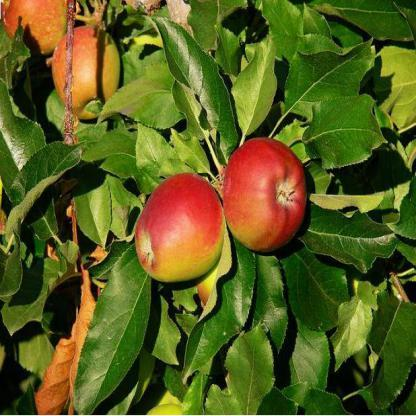Apple leaf: (70, 241, 162, 415), (147, 14, 249, 162), (1, 134, 92, 240), (284, 27, 384, 116), (300, 89, 386, 184), (302, 204, 390, 284), (278, 253, 359, 339), (218, 324, 283, 416), (58, 158, 121, 252), (370, 286, 416, 406), (235, 32, 278, 138), (76, 120, 139, 176)
